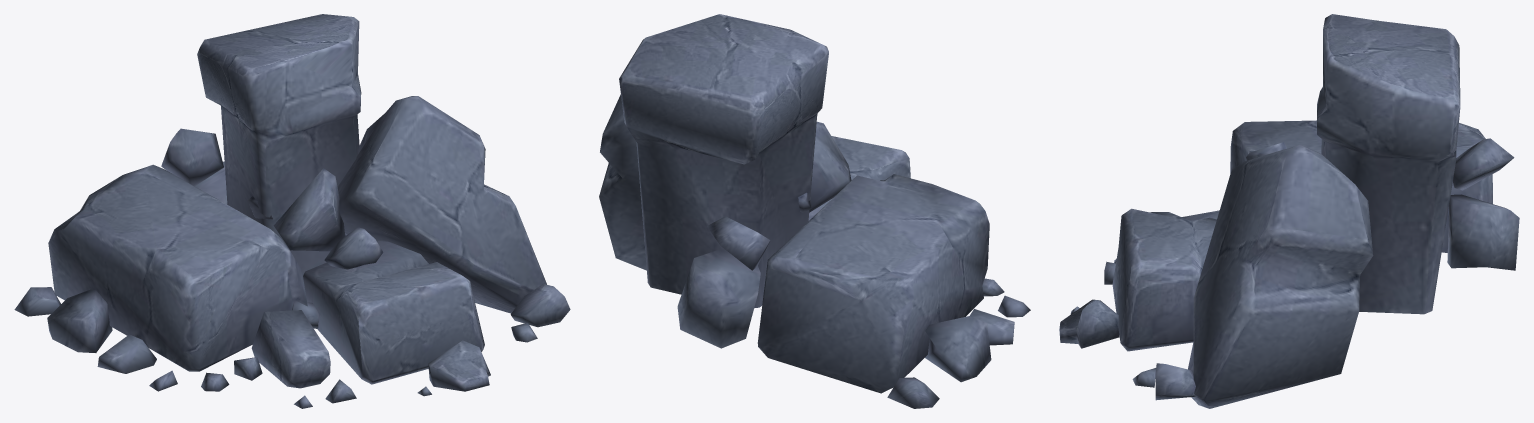
Rendered from rock_pile.glb.
3 views of the same model, side by side, from view 1: azimuth 30°, elevation 25°; view 2: azimuth 150°, elevation 25°; view 3: azimuth 270°, elevation 25° (orthographic). The views are drawn at different scales.
Parts seen in each view (by area): view 1: tripo_node_614216d1-7dc5-4d07-8d5a-73644ca52b18; view 2: tripo_node_614216d1-7dc5-4d07-8d5a-73644ca52b18; view 3: tripo_node_614216d1-7dc5-4d07-8d5a-73644ca52b18.
Part boxes in pixels (left/top/right/bottom): tripo_node_614216d1-7dc5-4d07-8d5a-73644ca52b18: left=14, top=14, right=570, bottom=408; tripo_node_614216d1-7dc5-4d07-8d5a-73644ca52b18: left=599, top=14, right=1030, bottom=408; tripo_node_614216d1-7dc5-4d07-8d5a-73644ca52b18: left=1059, top=14, right=1519, bottom=408.
Bounding box in the file's own units: 0.998 × 0.6074 × 0.8965.
1 material, 1 textured.
